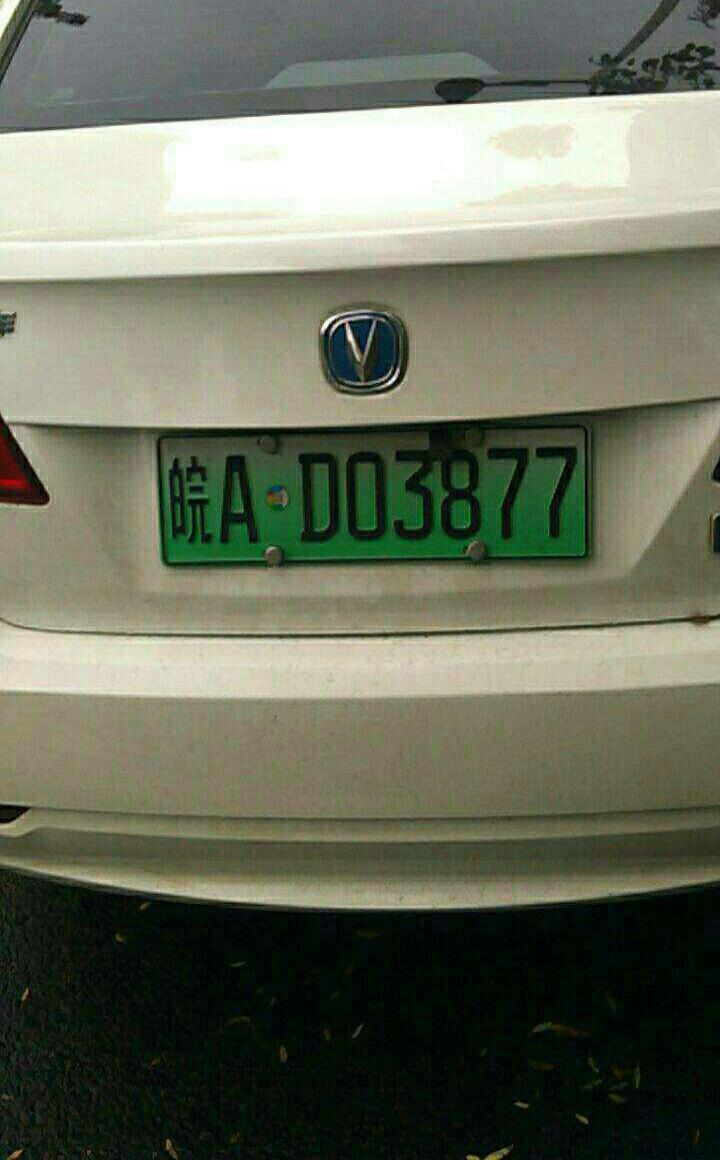car: (151, 427, 617, 563)
